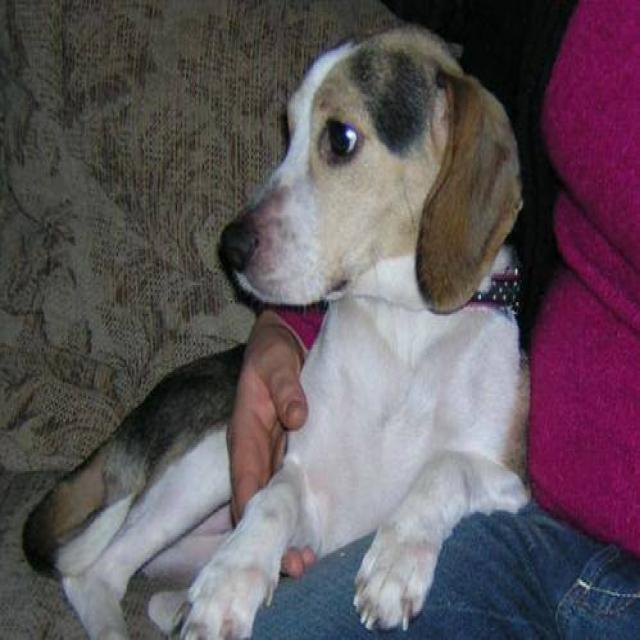dog: (21, 22, 531, 638)
